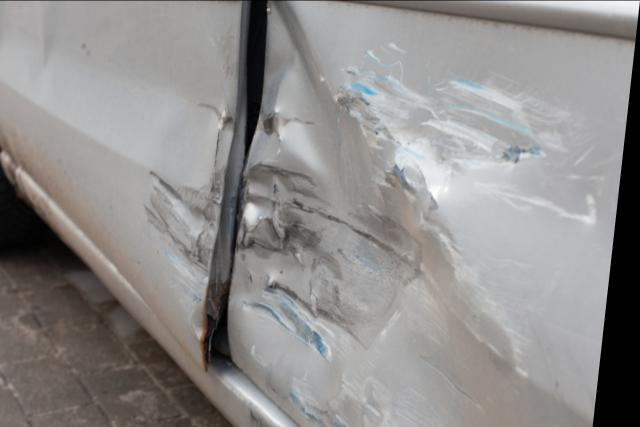dent: (244, 0, 523, 427), (149, 78, 238, 338)
scratch: (337, 42, 575, 199)
